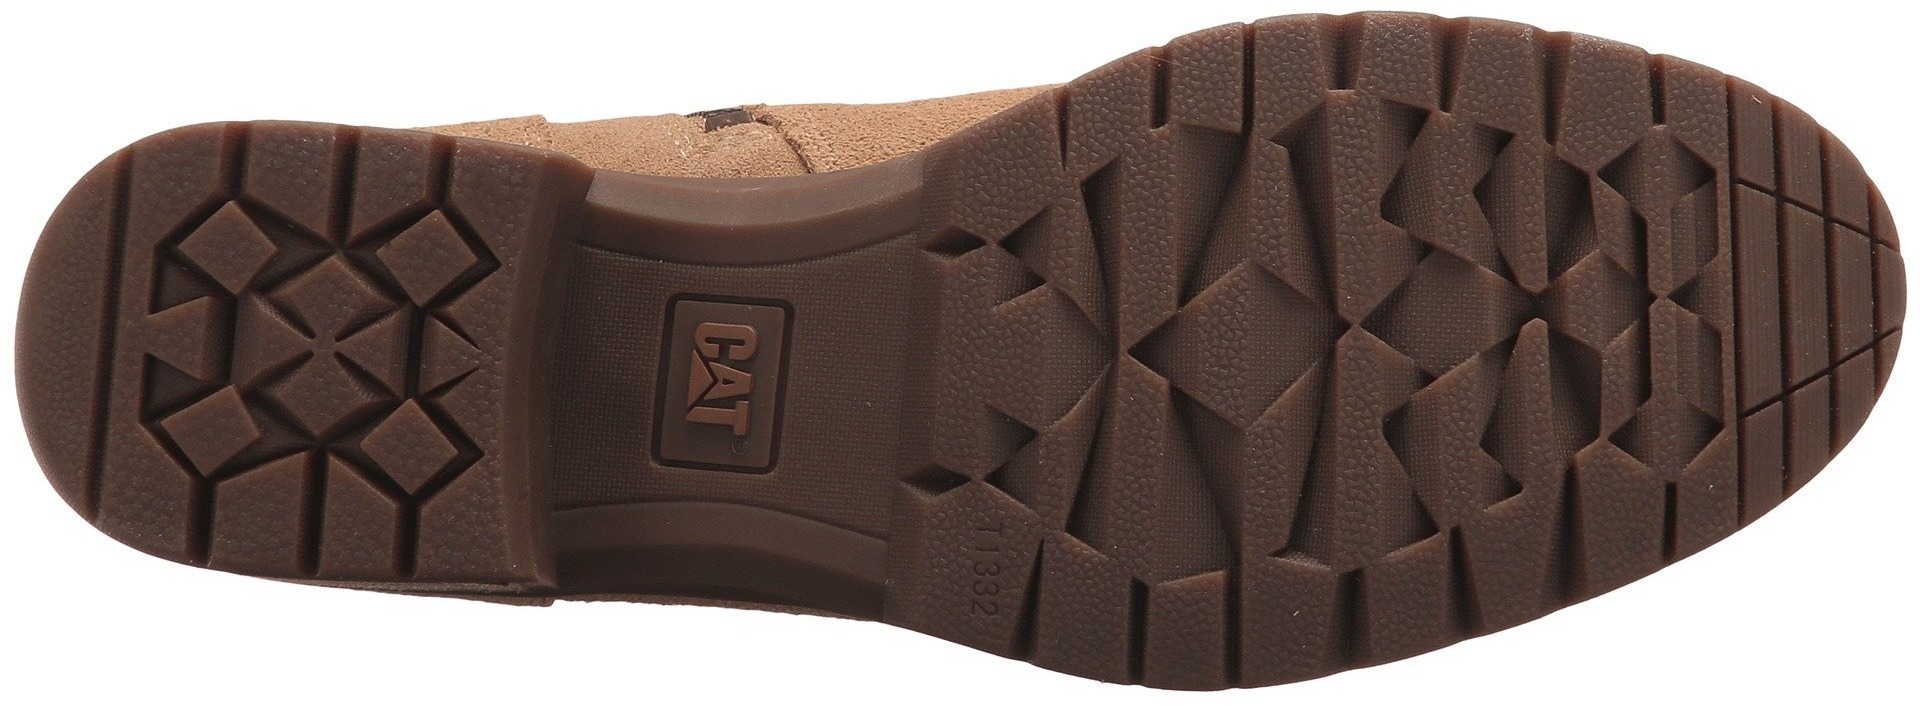quad: (636, 288, 804, 488)
text: (669, 296, 785, 436)
